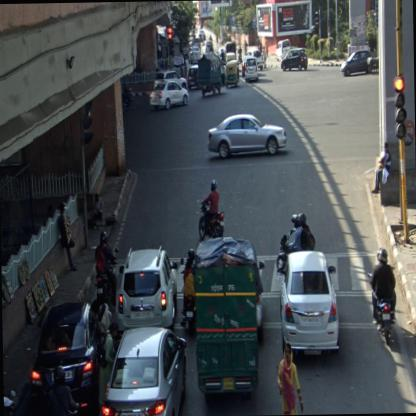car: (27, 301, 102, 415), (97, 325, 189, 415), (278, 249, 340, 362), (112, 244, 178, 334), (206, 112, 286, 160), (149, 79, 189, 110), (339, 50, 373, 76), (152, 70, 188, 92), (280, 46, 308, 72), (275, 38, 291, 62), (244, 50, 262, 69), (244, 57, 258, 81), (186, 64, 198, 90), (188, 45, 200, 61), (200, 40, 212, 55)
motorcycle: (366, 246, 397, 346), (274, 212, 316, 275), (94, 230, 119, 309), (196, 178, 224, 240), (179, 246, 197, 339), (3, 367, 18, 415), (219, 48, 226, 70), (237, 45, 242, 64)
truck: (193, 236, 260, 404), (196, 53, 220, 98)
